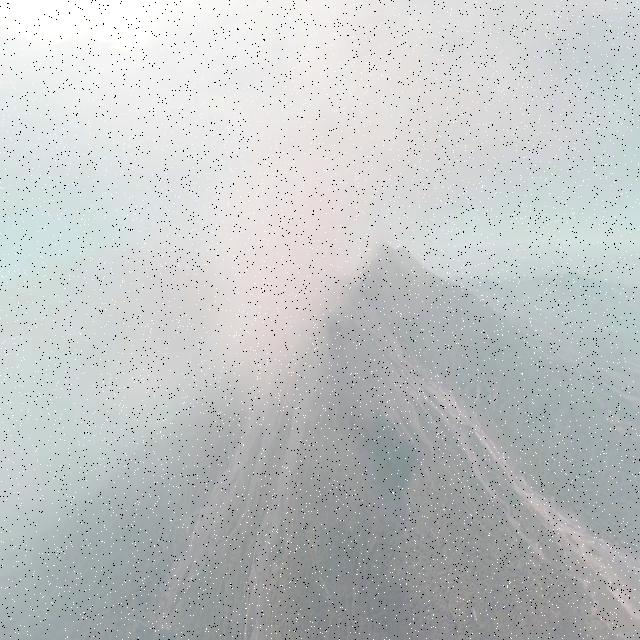Plume: (0, 1, 639, 496)
